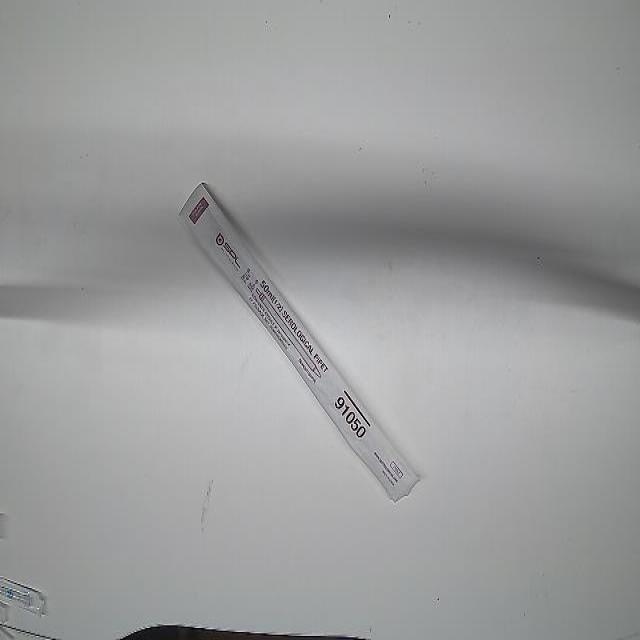Serelogical Pipet 50 mL - Sealed: (177, 178, 424, 510)
